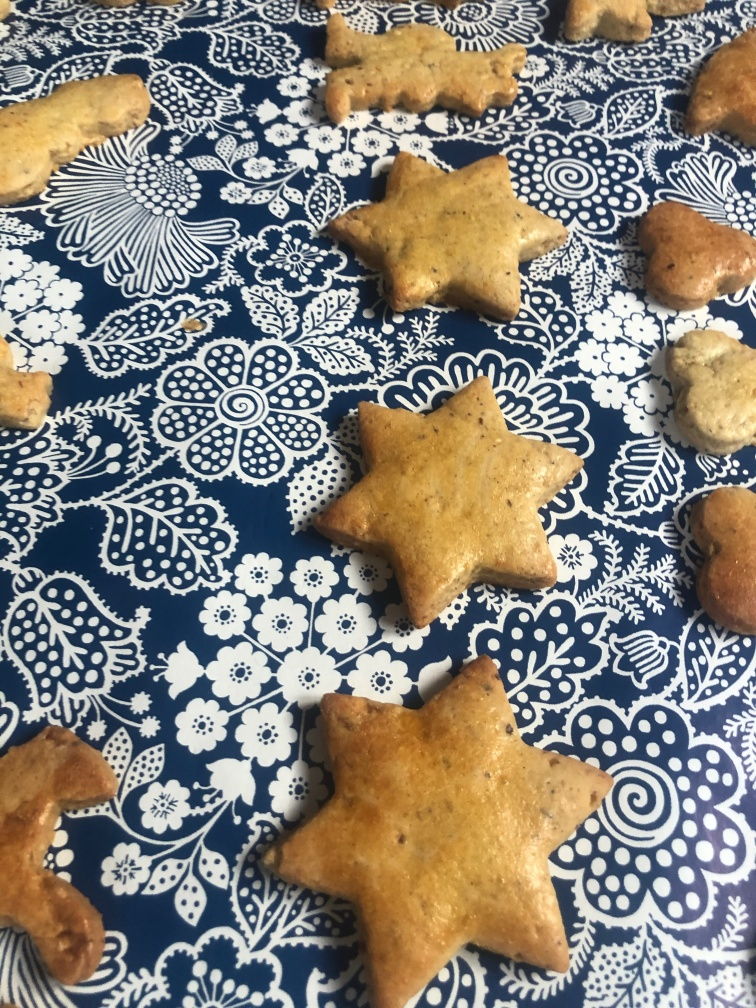flake: (633, 195, 756, 312), (660, 324, 755, 451)
star: (253, 650, 619, 1008), (314, 371, 582, 632), (327, 145, 572, 322)
